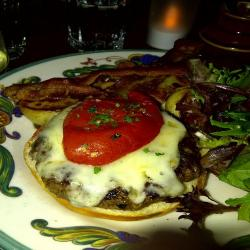burger: (25, 85, 212, 225)
